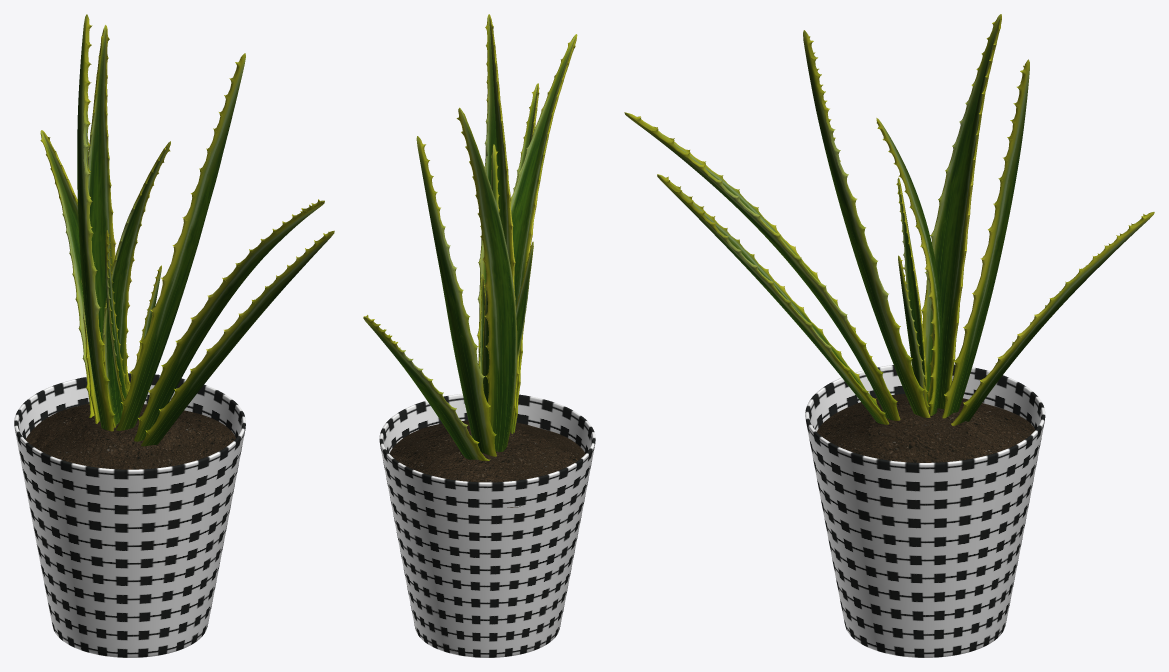
The model's file is plant05.gltf.
The picture shows the model from 3 angles, left to right: view 1: azimuth 30°, elevation 25°; view 2: azimuth 150°, elevation 25°; view 3: azimuth 270°, elevation 25°; orthographic projection. The views are drawn at different scales.
Parts seen in each view (by area): view 1: g 5; view 2: g 5; view 3: g 5.
Part boxes in pixels (bbox=[...]): g 5: bbox=[14, 14, 334, 657]; g 5: bbox=[363, 14, 595, 657]; g 5: bbox=[624, 14, 1154, 657].
Bounding box in the file's own units: 0.1604 × 0.4597 × 0.3543.
Materials: 1 (1 with a texture image).
